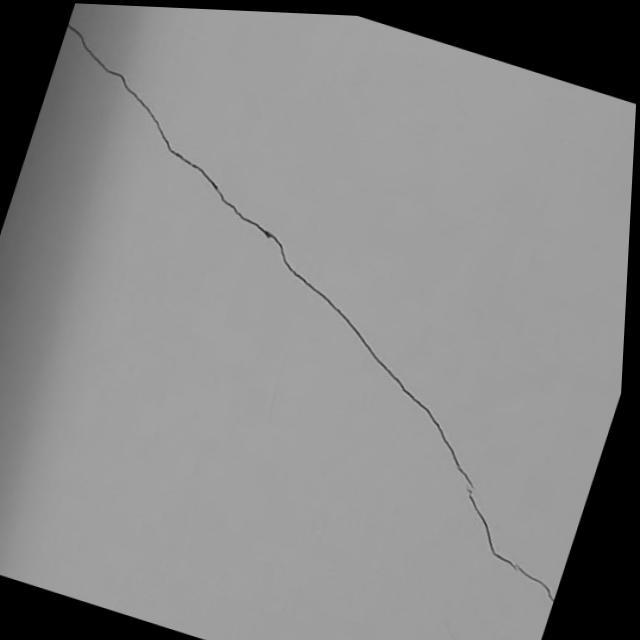Crack: (106, 64, 490, 549)
